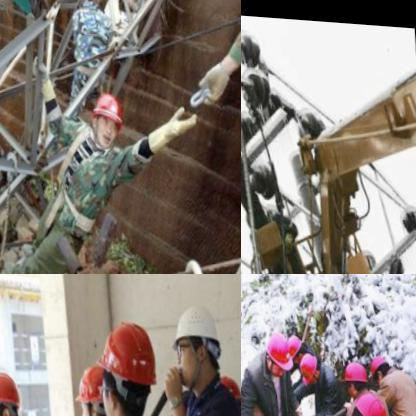helmet: (94, 311, 160, 416), (167, 290, 227, 386), (74, 357, 125, 416), (88, 87, 127, 145), (341, 379, 395, 416), (0, 366, 30, 416), (342, 353, 373, 401), (265, 327, 294, 378), (216, 363, 241, 415), (369, 344, 399, 383), (283, 330, 311, 363), (300, 351, 325, 385)
